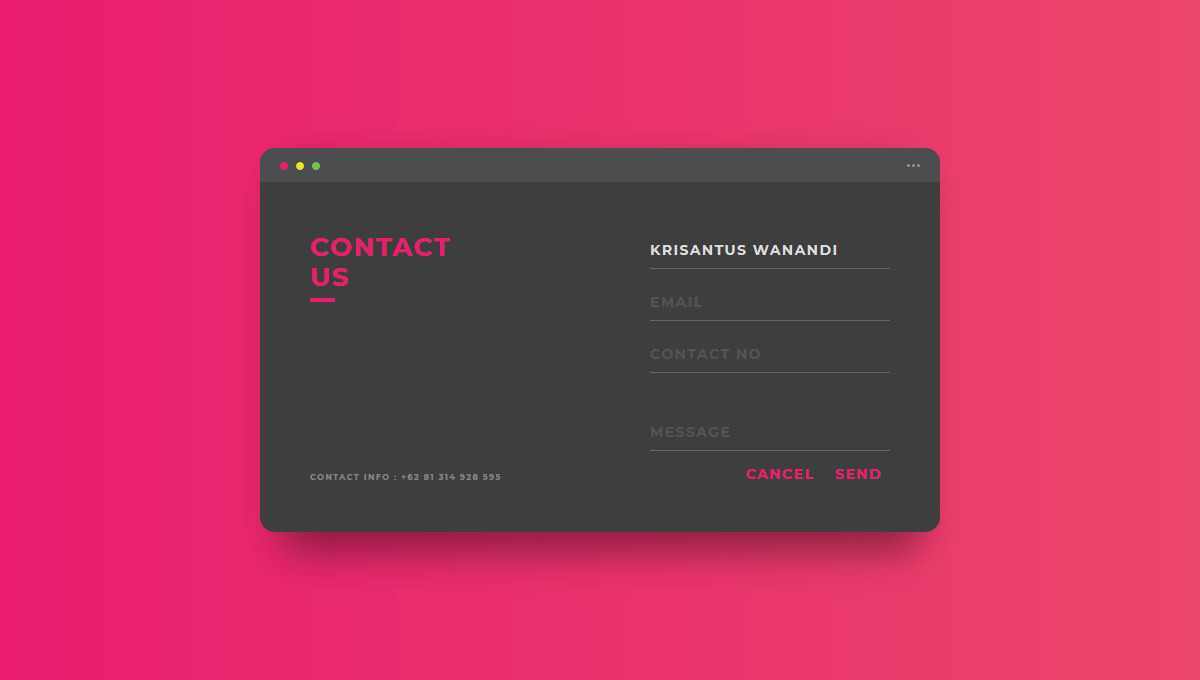field_line: (648, 241, 892, 272), (646, 293, 890, 324), (644, 424, 893, 454), (646, 346, 891, 375)
